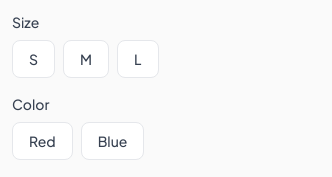
Test: VariantSelector › disables out-of-stock variant buttons
Click the button with test id "option-Size-L": (138, 59) [117,40,158,78]
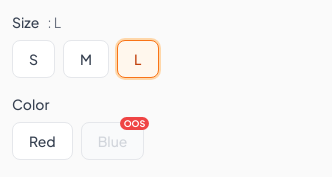
Expected: the button with test id "option-Color-Blue" is disabled, [81,122,144,160]
